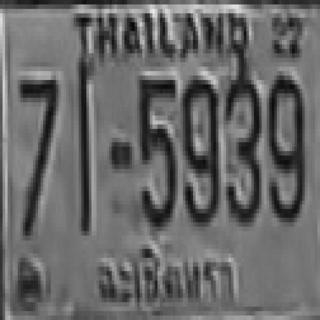N03: (224, 71, 259, 222)
N05: (137, 76, 175, 226)
N07: (18, 76, 56, 236)
N09: (267, 71, 305, 218), (180, 76, 218, 222)
P07: (93, 242, 240, 315)
